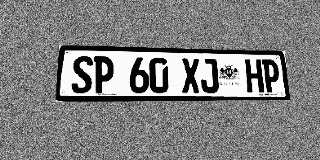0: (149, 57, 169, 93)
6: (129, 57, 149, 93)
H: (245, 59, 264, 93)
J: (200, 58, 219, 93)
P: (93, 56, 114, 93), (262, 59, 281, 93)
S: (71, 56, 93, 94)
X: (181, 58, 201, 93)
